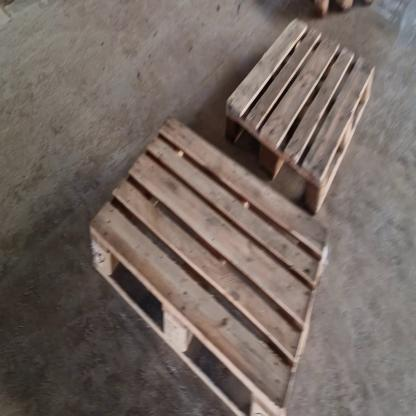BoxFace: (88, 112, 331, 416), (225, 15, 378, 217)
